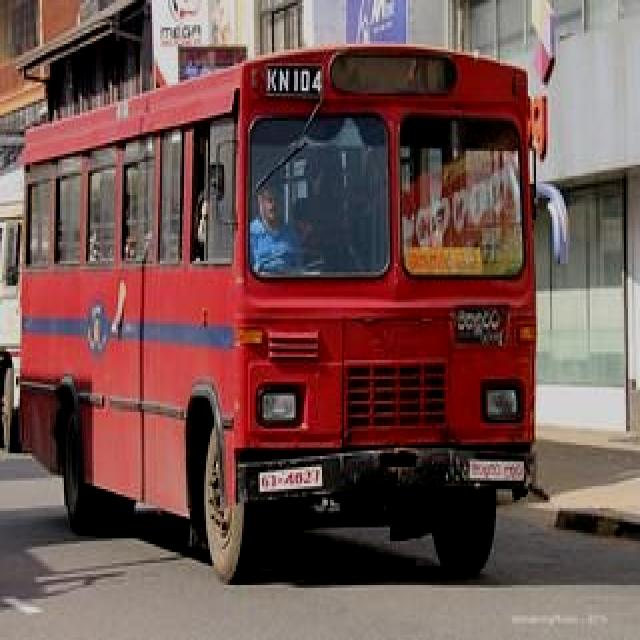Bus: (19, 35, 538, 592)
